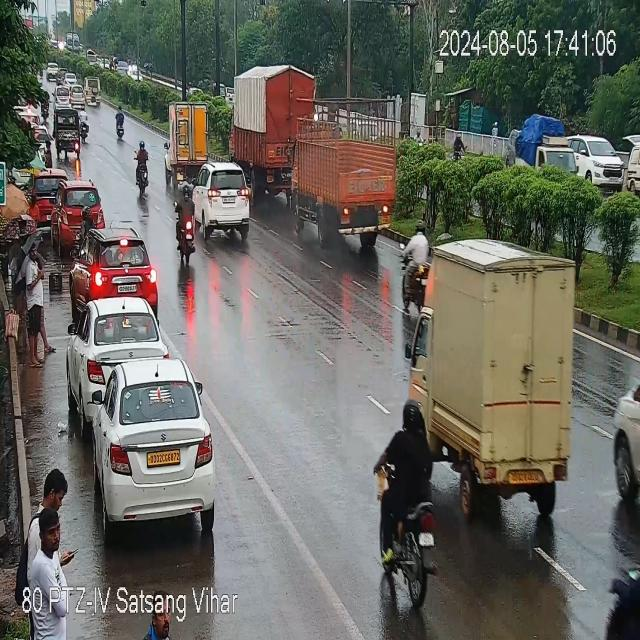2-wheelers: (372, 405, 446, 551), (597, 541, 640, 638), (398, 224, 436, 307), (176, 176, 199, 269), (133, 139, 152, 193), (450, 126, 471, 164), (451, 132, 468, 164), (76, 107, 90, 144), (116, 103, 130, 140), (416, 126, 424, 144)
auto: (166, 99, 217, 187), (54, 104, 81, 154)
car: (92, 359, 218, 528), (70, 295, 162, 400), (80, 226, 162, 304), (194, 163, 256, 244), (568, 124, 624, 192), (613, 372, 640, 492), (60, 177, 104, 227), (85, 76, 103, 108), (55, 83, 70, 107), (71, 86, 84, 106), (47, 64, 57, 79), (66, 73, 76, 85), (58, 67, 65, 84)
pedestrian: (16, 236, 53, 365), (35, 508, 69, 573), (25, 471, 73, 514), (30, 190, 42, 229), (44, 139, 53, 171)
truck: (399, 221, 581, 505), (297, 133, 408, 251), (231, 61, 318, 206), (508, 129, 574, 177), (66, 32, 82, 52)
